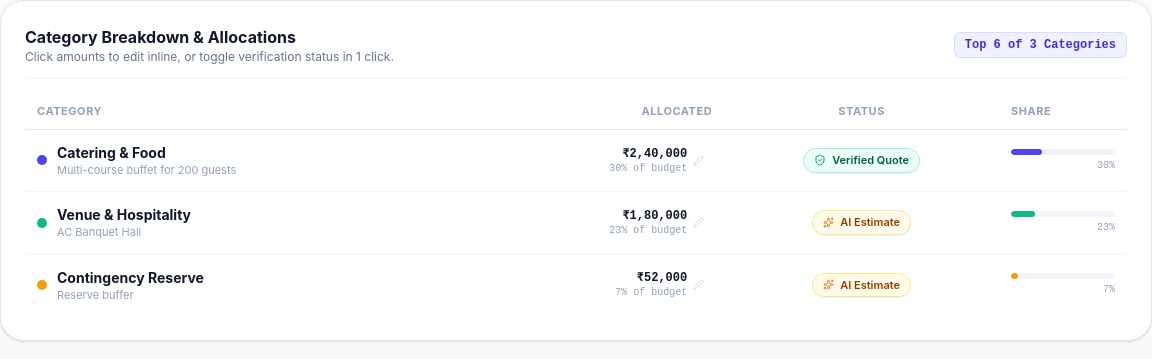
CategoryBreakdownTable Component › enters inline edit mode on clicking Edit button
Step 1. Click the element titled "Edit allocated amount" → (657, 160), box [601,142,712,179]
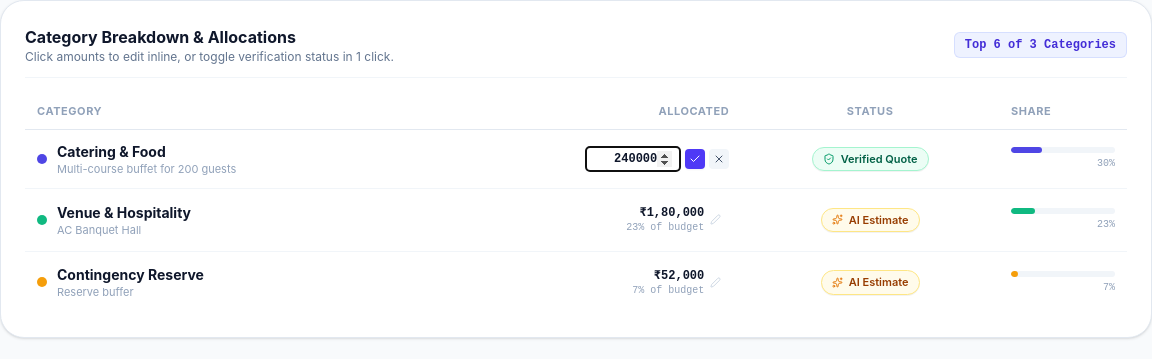
Now the number field holds "240000", box [585,146,681,172]
